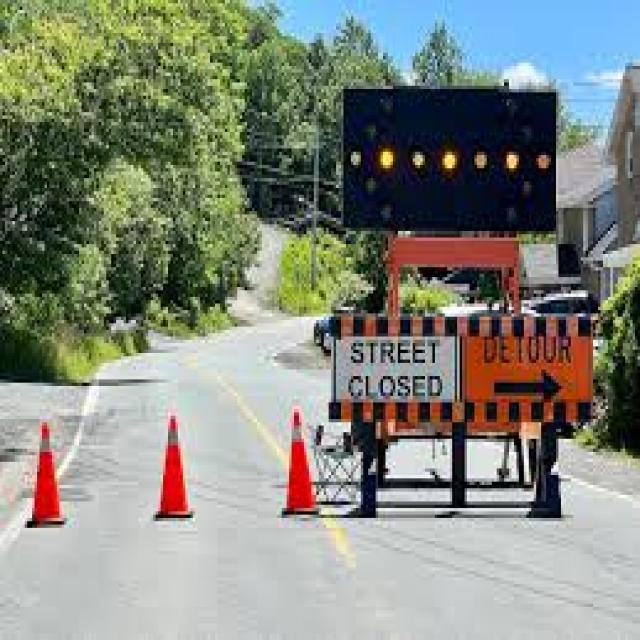cone: (151, 412, 199, 522), (279, 407, 324, 518), (24, 425, 69, 526)
